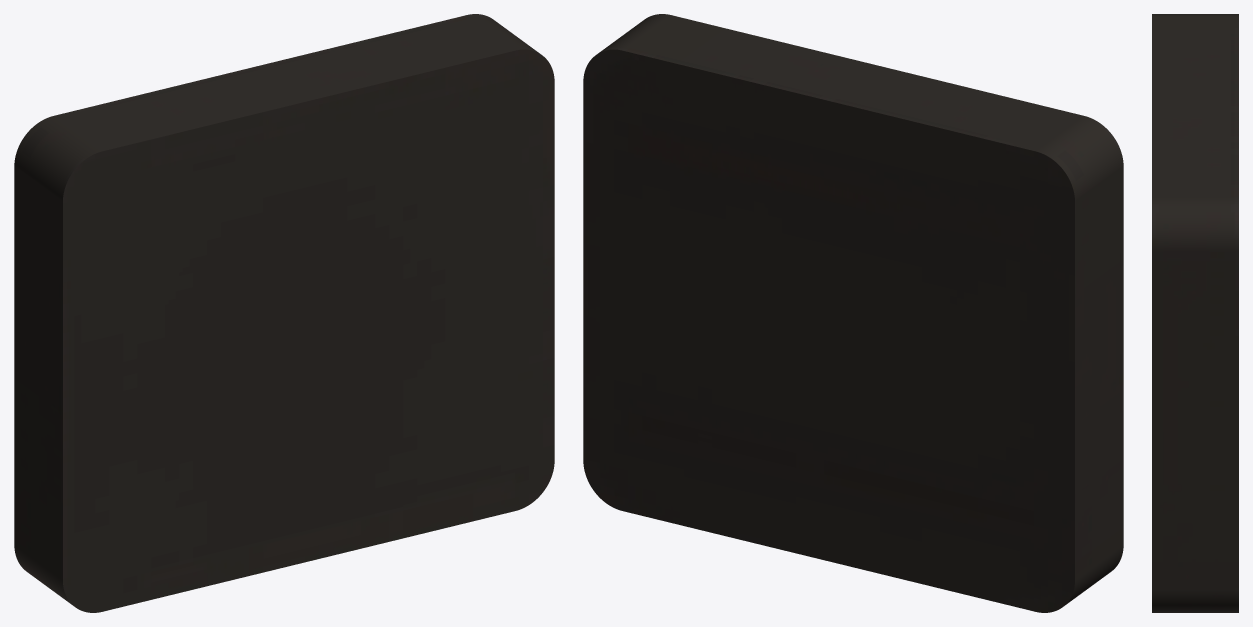
File: seat__cushion.glb
The picture shows the model from 3 angles, left to right: view 1: azimuth 30°, elevation 25°; view 2: azimuth 150°, elevation 25°; view 3: azimuth 270°, elevation 25°; orthographic projection. The views are drawn at different scales.
Visible parts, largest first — view 1: world; view 2: world; view 3: world.
Boxes of the visible parts, x1,y1,x2,y2 form: world: (14, 14, 554, 612); world: (583, 14, 1123, 612); world: (1152, 14, 1238, 612).
Bounding box in the file's own units: 0.38 × 0.34 × 0.065.
1 material, 1 textured.
